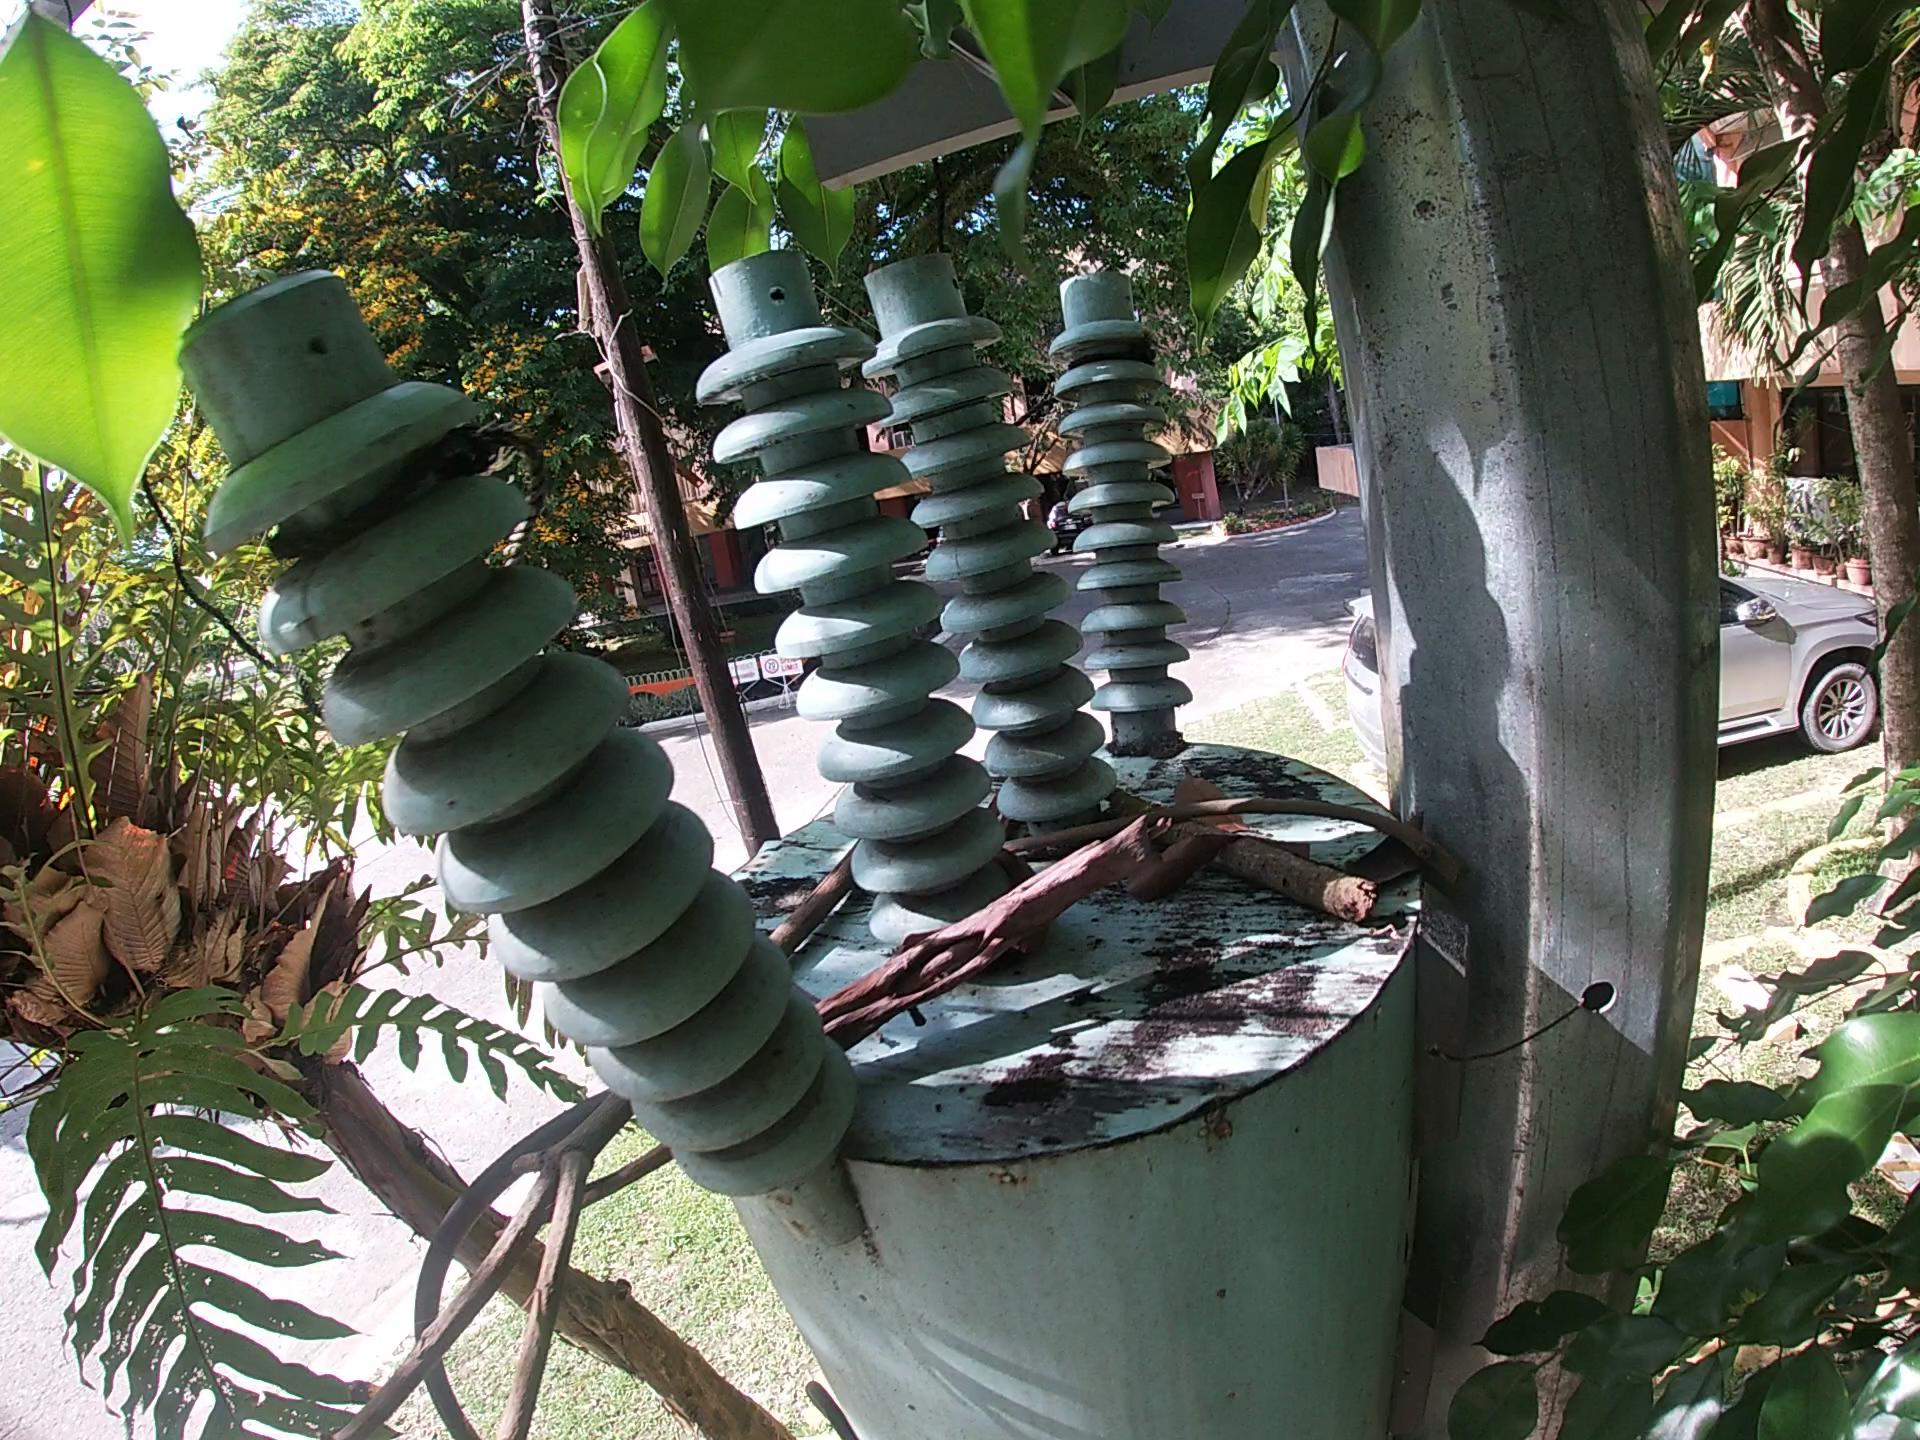leaf: (1135, 824, 1243, 915), (1336, 805, 1426, 889), (1158, 761, 1250, 830)
tree branch: (321, 1085, 636, 1438), (809, 805, 1175, 1051), (1001, 796, 1486, 892), (1108, 793, 1383, 930), (522, 1136, 680, 1236), (766, 838, 871, 964)
